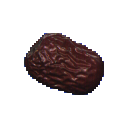gd: (12, 19, 124, 108)
